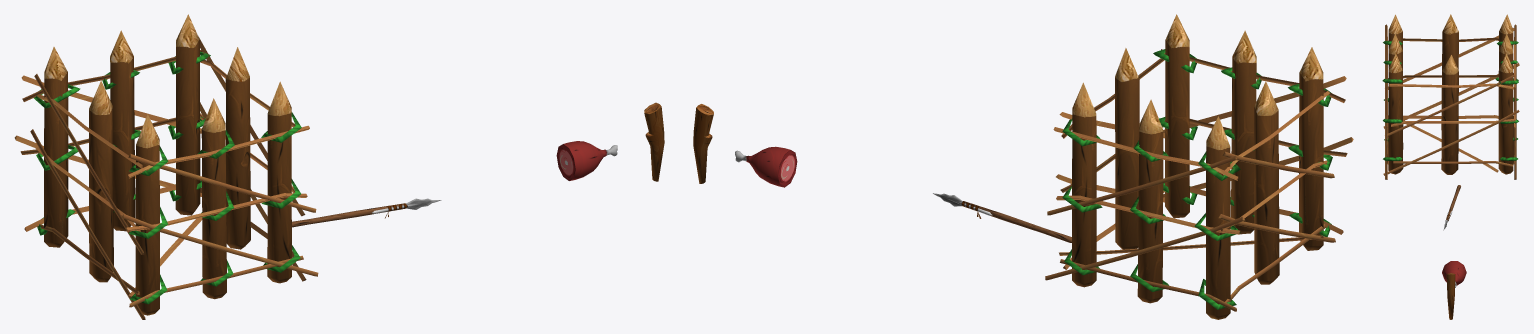
The model's file is AllProps.FBX.
3 renders of one model, left to right at view 1: azimuth 30°, elevation 25°; view 2: azimuth 150°, elevation 25°; view 3: azimuth 270°, elevation 25°, orthographic. The views are drawn at different scales.
Visible parts, largest first — view 1: Cage, Meat, Torch_Light, Spear; view 2: Cage, Meat, Torch_Light, Spear; view 3: Cage, Meat, Torch_Light, Spear.
Part boxes in pixels (<box>): Cage: <box>14,14,318,319</box>; Meat: <box>556,141,617,180</box>; Torch_Light: <box>644,102,664,181</box>; Spear: <box>292,198,441,227</box>; Cage: <box>1045,14,1353,319</box>; Meat: <box>735,146,797,187</box>; Torch_Light: <box>693,104,713,183</box>; Spear: <box>933,193,1071,242</box>; Cage: <box>1382,14,1519,179</box>; Meat: <box>1442,261,1466,287</box>; Torch_Light: <box>1446,273,1455,319</box>; Spear: <box>1443,185,1460,230</box>.
Size of the model in its own units: 5.48 by 2.08 by 1.82.
